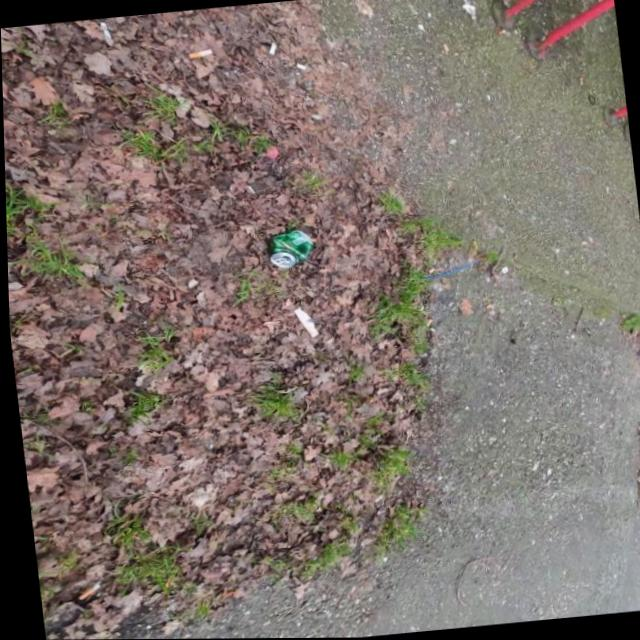Can-Metal: (262, 225, 314, 269)
